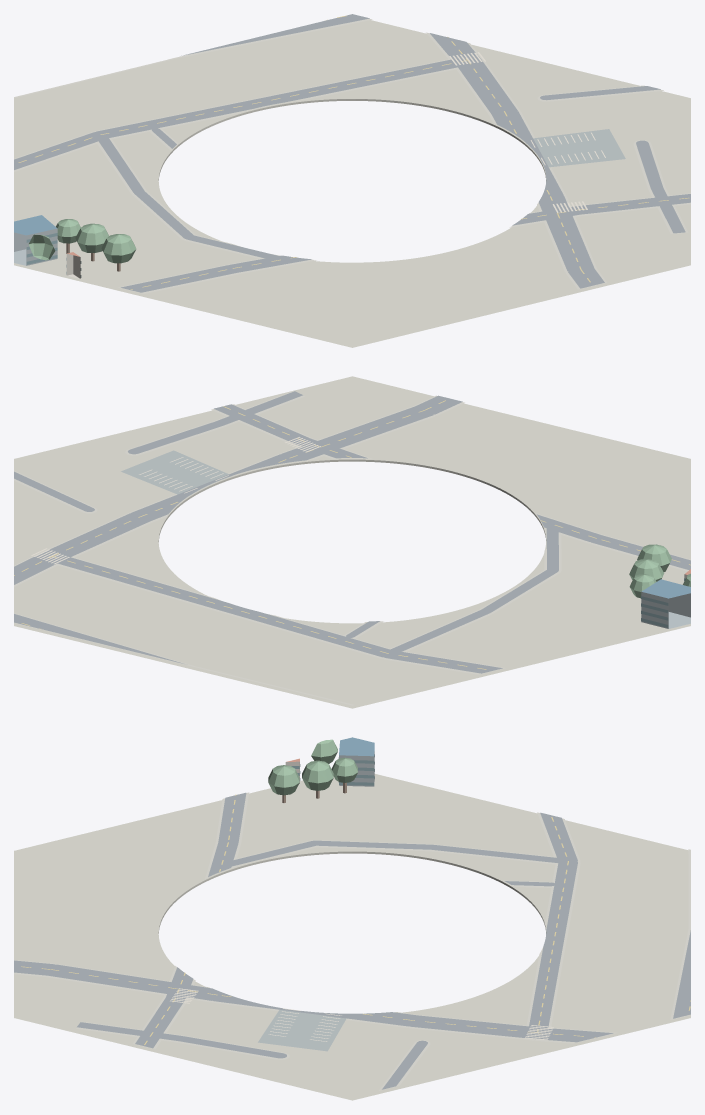
The model's file is surround-P06.glb.
3 renders of one model, top to bottom at view 1: azimuth 30°, elevation 25°; view 2: azimuth 150°, elevation 25°; view 3: azimuth 270°, elevation 25°, orthographic.
Visible parts, largest first — view 1: P06_ground; view 2: P06_ground; view 3: P06_ground.
Boxes of the visible parts, box(x1,y1,x2,y2) form: P06_ground: box(14, 14, 690, 347); P06_ground: box(14, 376, 690, 708); P06_ground: box(14, 737, 690, 1100).
Bounding box in the file's own units: 16.16 × 0.8779 × 14.
Materials: 1 (1 with a texture image).
